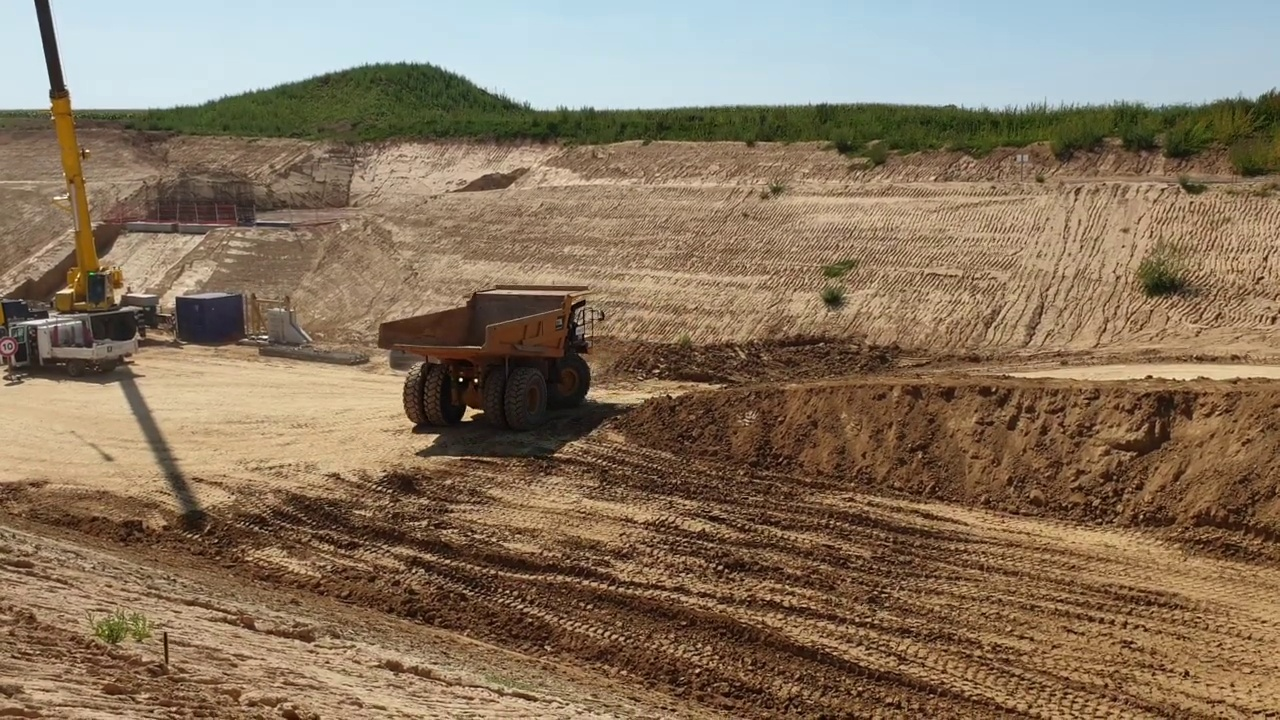crane: (1, 1, 145, 385)
truck: (374, 279, 609, 433)
